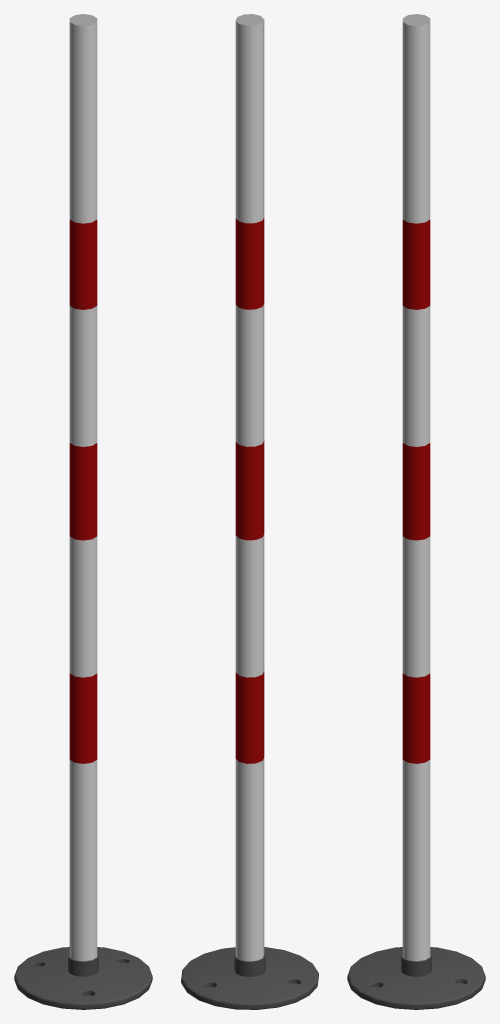
The picture shows the model from 3 angles, left to right: view 1: azimuth 90°, elevation 25°; view 2: azimuth 150°, elevation 25°; view 3: azimuth 270°, elevation 25°; orthographic projection.
Parts seen in each view (by area): view 1: pCylinder8; view 2: pCylinder8; view 3: pCylinder8.
Part boxes in pixels (x1=…): pCylinder8: x1=14, y1=14, x2=152, y2=1009; pCylinder8: x1=181, y1=14, x2=318, y2=1009; pCylinder8: x1=347, y1=14, x2=485, y2=1009.
Size of the model in its own units: 22.18 by 170 by 22.18.
